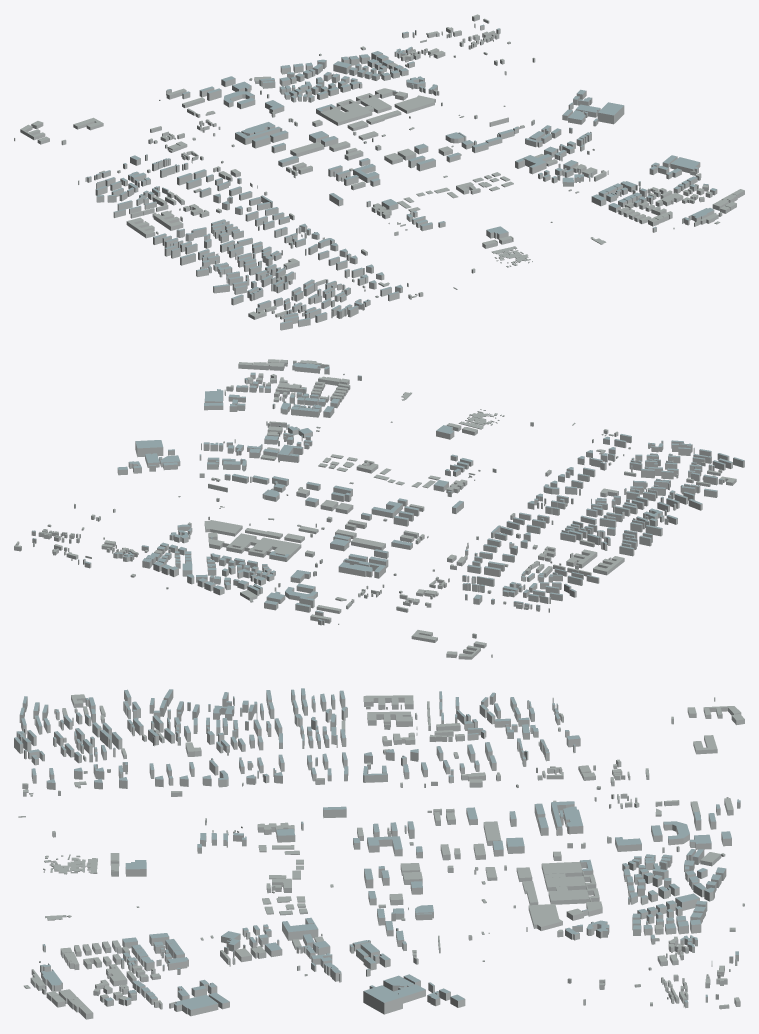
The model's file is far.glb.
3 renders of one model, top to bottom at view 1: azimuth 30°, elevation 25°; view 2: azimuth 150°, elevation 25°; view 3: azimuth 270°, elevation 25°, orthographic. The views are drawn at different scales.
Bounding box in the file's own units: 2195 × 37.09 × 2103.
